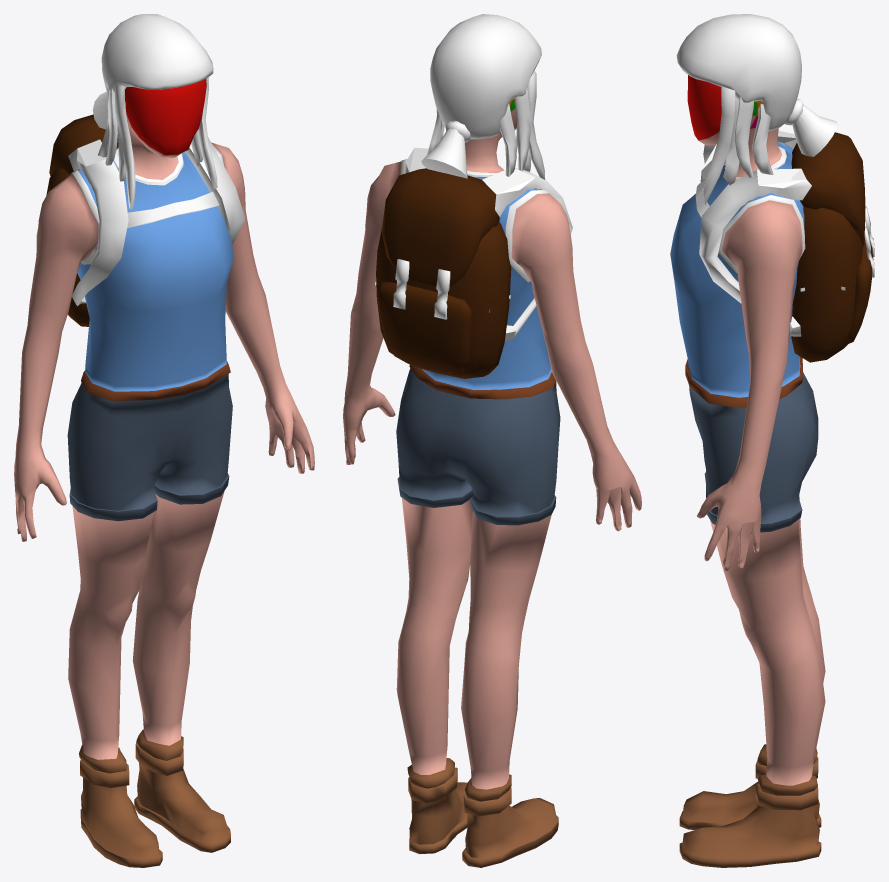
File: girl2.fbx
3 views of the same model, side by side, from view 1: azimuth 30°, elevation 25°; view 2: azimuth 150°, elevation 25°; view 3: azimuth 270°, elevation 25° (orthographic).
Visible parts, largest first — view 1: hiker girl.001; view 2: hiker girl.001; view 3: hiker girl.001.
Part boxes in pixels (x1,y1,x2,y2): hiker girl.001: (14,14,314,867); hiker girl.001: (343,14,641,867); hiker girl.001: (670,14,874,867).
Bounding box in the file's own units: 6318 × 17149 × 3872.
